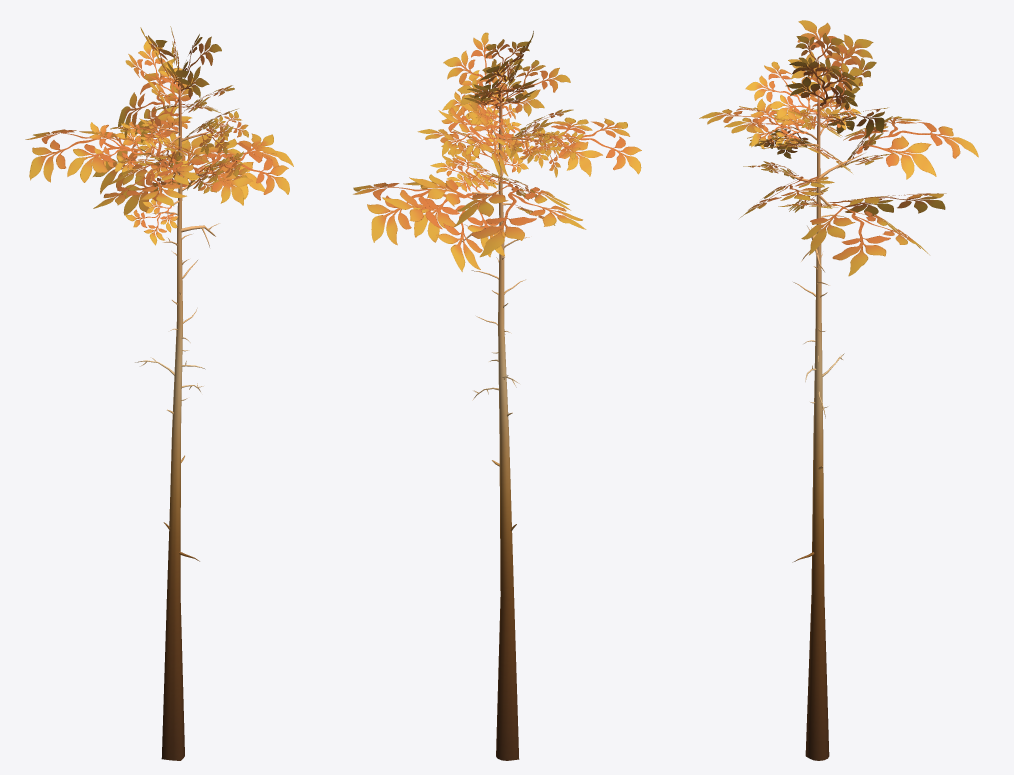
File: Tree_2.fbx
3 renders of one model, left to right at view 1: azimuth 30°, elevation 25°; view 2: azimuth 150°, elevation 25°; view 3: azimuth 270°, elevation 25°, orthographic.
Parts seen in each view (by area): view 1: Foliage, Trunk2; view 2: Foliage, Trunk2; view 3: Foliage, Trunk2.
Part boxes in pixels (bbox=[...]): Foliage: bbox=[25, 26, 293, 245]; Trunk2: bbox=[135, 81, 219, 760]; Foliage: bbox=[353, 31, 641, 271]; Trunk2: bbox=[462, 80, 551, 760]; Foliage: bbox=[699, 20, 978, 276]; Trunk2: bbox=[783, 80, 864, 760].
Bounding box in the file's own units: 264 × 673 × 267.
